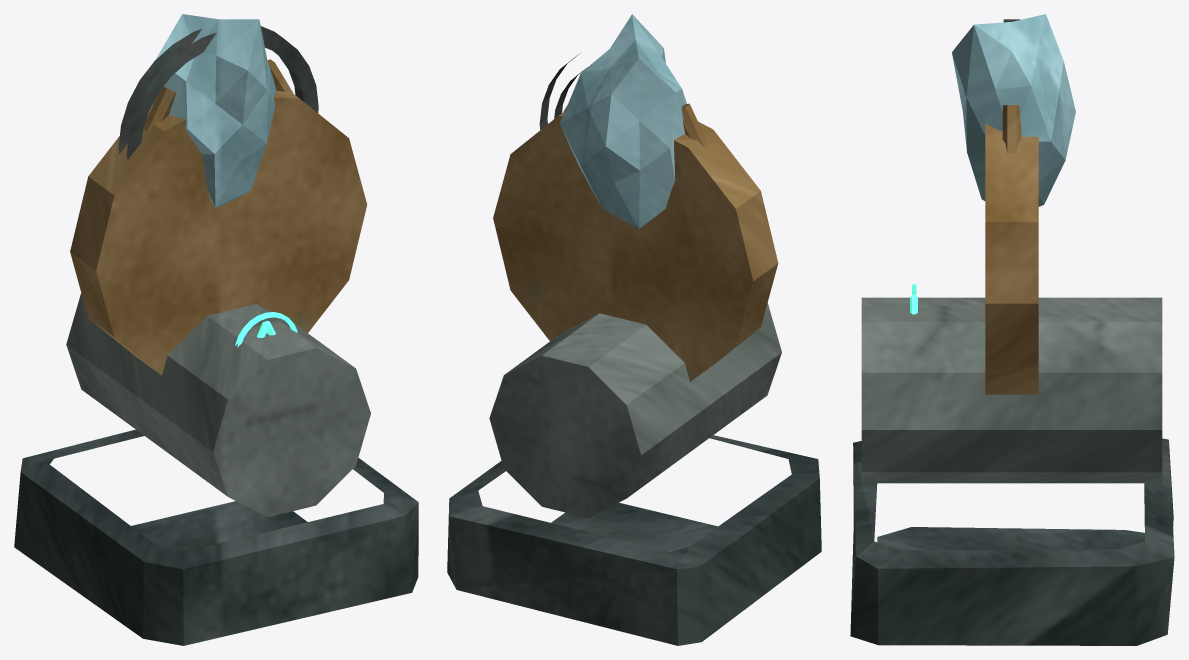
Rendered from 0588_relic_pedestal_13.glb.
3 views of the same model, side by side, from view 1: azimuth 30°, elevation 25°; view 2: azimuth 150°, elevation 25°; view 3: azimuth 270°, elevation 25° (orthographic). The views are drawn at different scales.
Visible parts, largest first — view 1: brass, stone_dark, stone, ice, iron, glow; view 2: brass, stone_dark, stone, ice, iron; view 3: stone, stone_dark, brass, ice.
Part boxes in pixels (x1,y1,x2,y2): brass: (70, 59, 367, 375); stone_dark: (14, 429, 418, 645); stone: (66, 293, 370, 517); ice: (153, 14, 276, 207); iron: (118, 26, 318, 159); glow: (235, 312, 297, 347); brass: (493, 103, 778, 381); stone_dark: (447, 435, 821, 645); stone: (489, 303, 781, 517); ice: (560, 14, 686, 228); iron: (539, 53, 587, 129); stone: (861, 297, 1162, 483); stone_dark: (850, 438, 1174, 645); brass: (985, 105, 1038, 394); ice: (952, 14, 1075, 206).
Bounding box in the file's own units: 0.9638 × 1.89 × 0.9699.
Materials: 6 (6 with a texture image).
